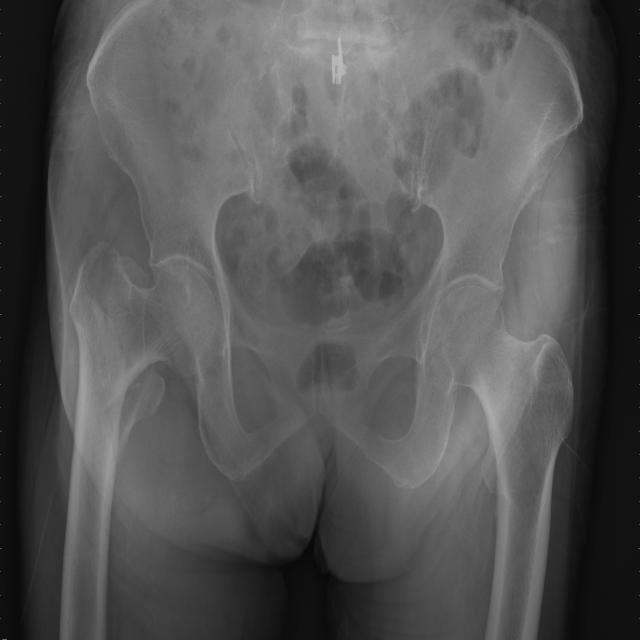normal-left: (432, 286, 574, 593)
right-intertrochanteric: (82, 241, 217, 404), (69, 259, 128, 490)
right-lesser-trochanter: (119, 365, 165, 455)
